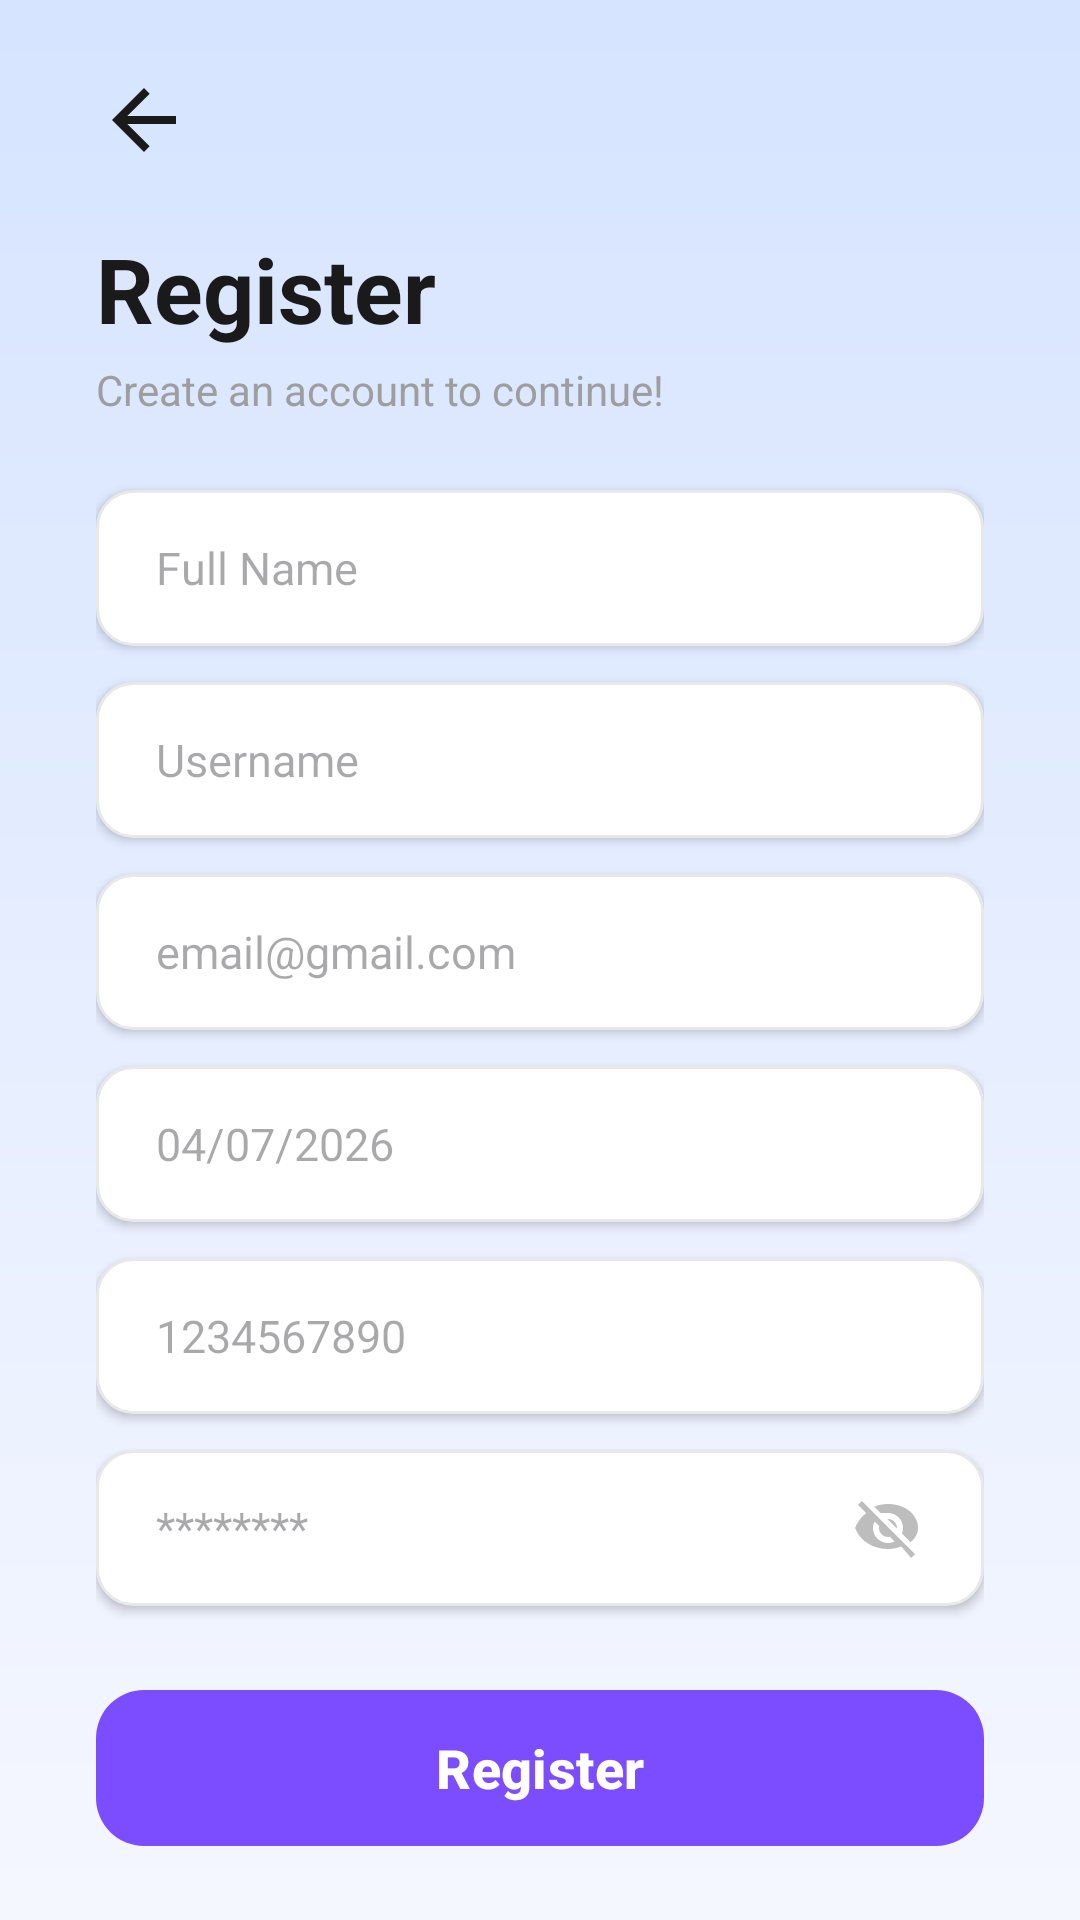

Where icons sit on this 1080px×1920px app screen, as box=[x1, y1, x2, y2]:
arrow back: box=[112, 88, 176, 152]
visibility off: box=[855, 1501, 918, 1558]
